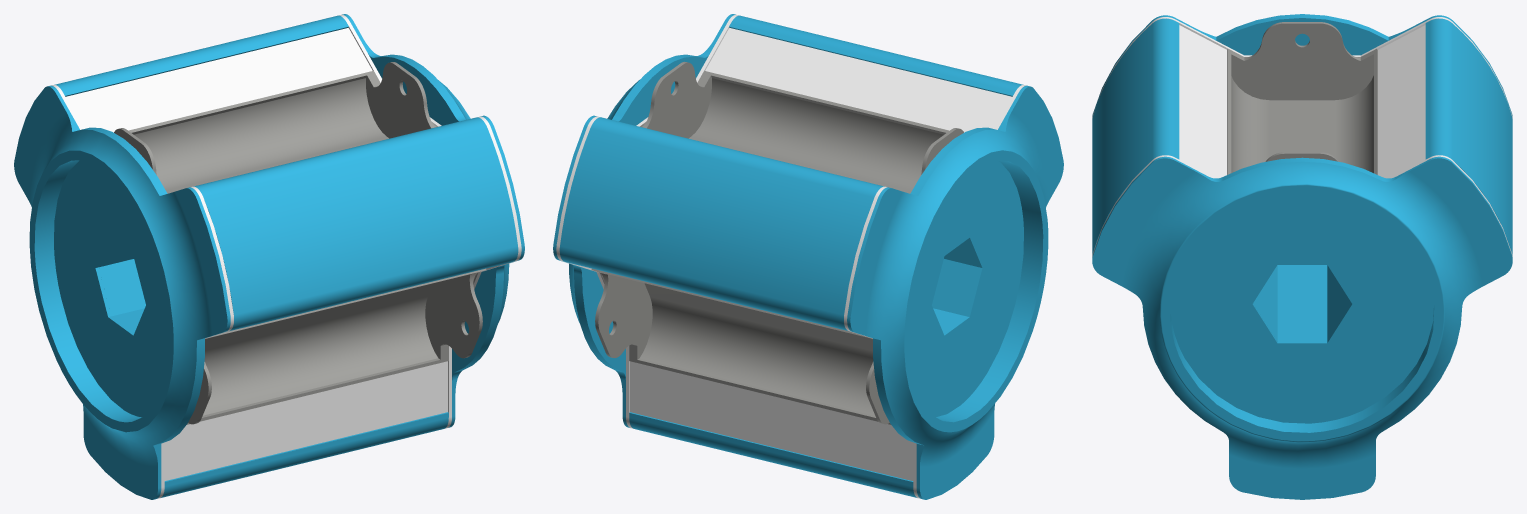
File: b_simple.dae
3 views of the same model, side by side, from view 1: azimuth 30°, elevation 25°; view 2: azimuth 150°, elevation 25°; view 3: azimuth 270°, elevation 25° (orthographic).
Visible parts, largest first — view 1: Body1.010, Body1.006, Body1.009, Body1.007, Body6, Body3, Body1.003, Body1.004, Body1.005, Body3.001, Body1, Body1.002; view 2: Body1.010, Body1.005, Body1.008, Body1.007, Body4, Body2, Body1.003, Body1.004, Body1.006, Body3.001, Body1, Body1.002; view 3: Body1.003, Body1.007, Body1.006, Body1.005, Body2, Body3, Body3.001, Body1.010, Body1.002, Body1.
Boxes of the visible parts, x1,y1,x2,y2 form: Body1.010: [14, 85, 230, 499]; Body1.006: [193, 117, 518, 331]; Body1.009: [187, 268, 486, 424]; Body1.007: [114, 62, 437, 193]; Body6: [164, 361, 447, 480]; Body3: [65, 28, 372, 132]; Body1.003: [342, 14, 524, 427]; Body1.004: [161, 412, 448, 497]; Body1.005: [54, 15, 348, 96]; Body3.001: [98, 239, 145, 332]; Body1: [338, 14, 521, 428]; Body1.002: [51, 85, 233, 498]; Body1.010: [847, 85, 1063, 499]; Body1.005: [559, 117, 884, 330]; Body1.008: [591, 268, 890, 424]; Body1.007: [640, 61, 963, 193]; Body4: [630, 361, 913, 480]; Body2: [705, 28, 1012, 132]; Body1.003: [553, 14, 735, 427]; Body1.004: [629, 412, 916, 497]; Body1.006: [729, 15, 1023, 96]; Body3.001: [932, 239, 978, 332]; Body1: [556, 14, 739, 428]; Body1.002: [844, 85, 1026, 498]; Body1.003: [1092, 156, 1512, 499]; Body1.007: [1227, 22, 1377, 174]; Body1.006: [1092, 18, 1179, 254]; Body1.005: [1425, 18, 1512, 254]; Body2: [1179, 25, 1227, 178]; Body3: [1378, 25, 1425, 178]; Body3.001: [1253, 265, 1351, 341]; Body1.010: [1092, 14, 1512, 116]; Body1.002: [1092, 17, 1512, 118]; Body1: [1092, 155, 1512, 256].
Size of the model in its own units: 0.2032 by 0.2238 by 0.2006.
